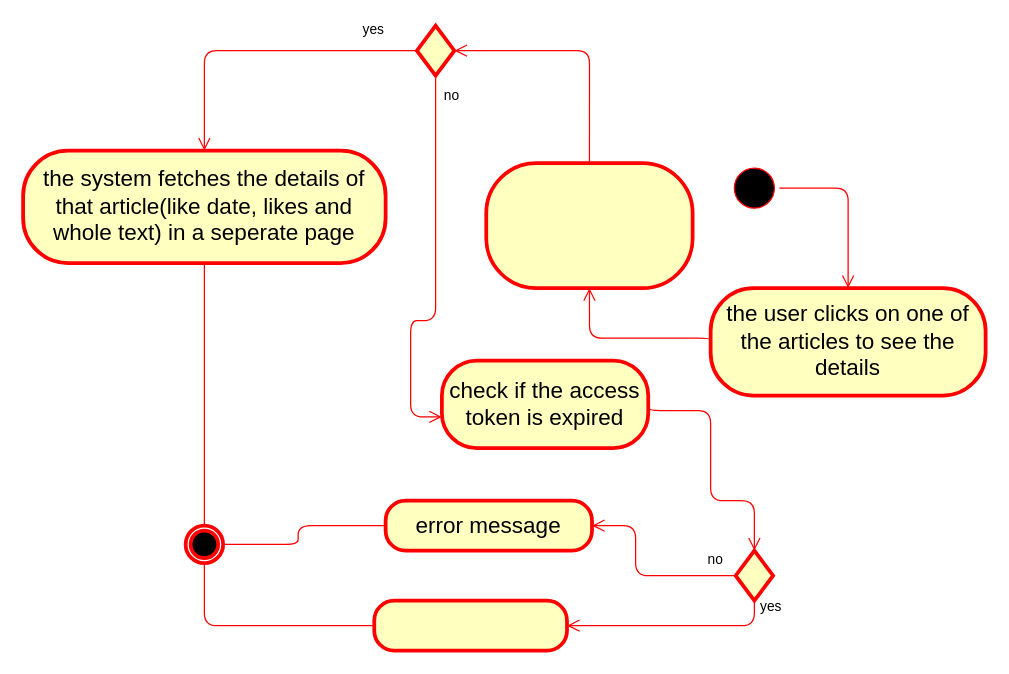
The diagram is 1009 pixels wide and 674 high, and some of its shapes have lost their labels. The centre of each missing label's shape, as x and y in pixels:
checks if the credentials of user exists or are valid: point 589,225
need refresh: point 470,625
